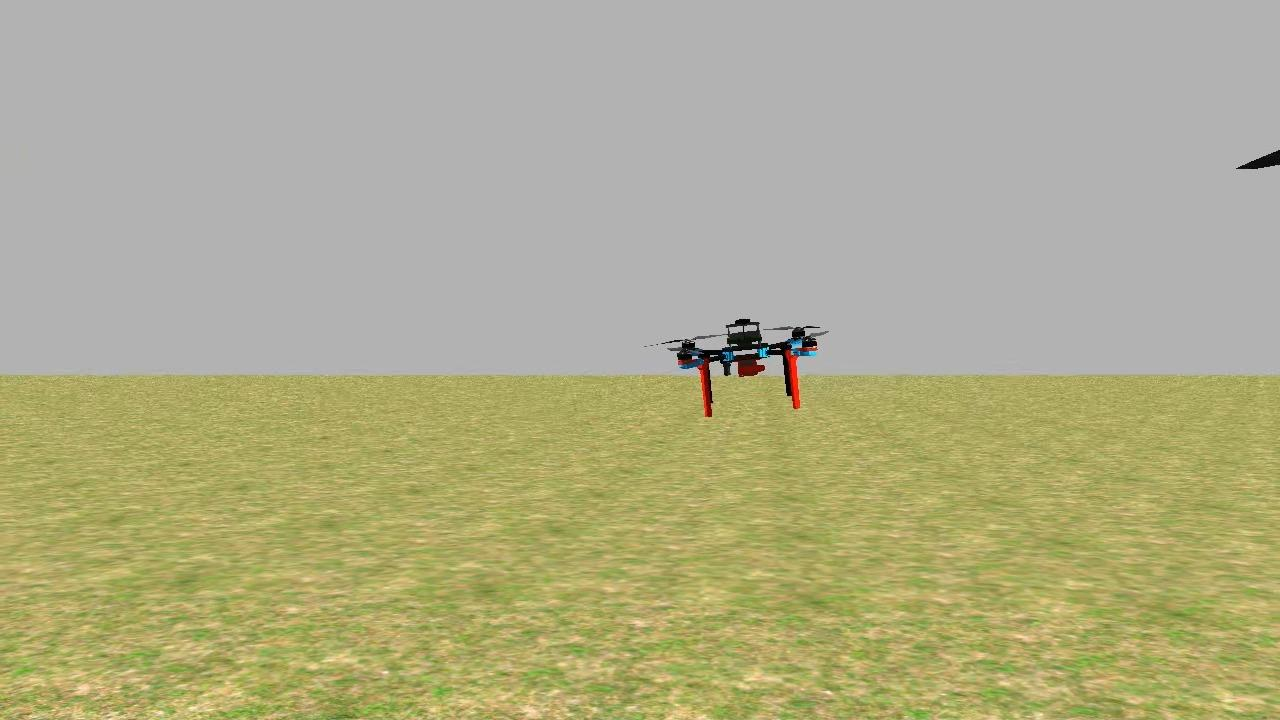UAV: (665, 308, 834, 437)
